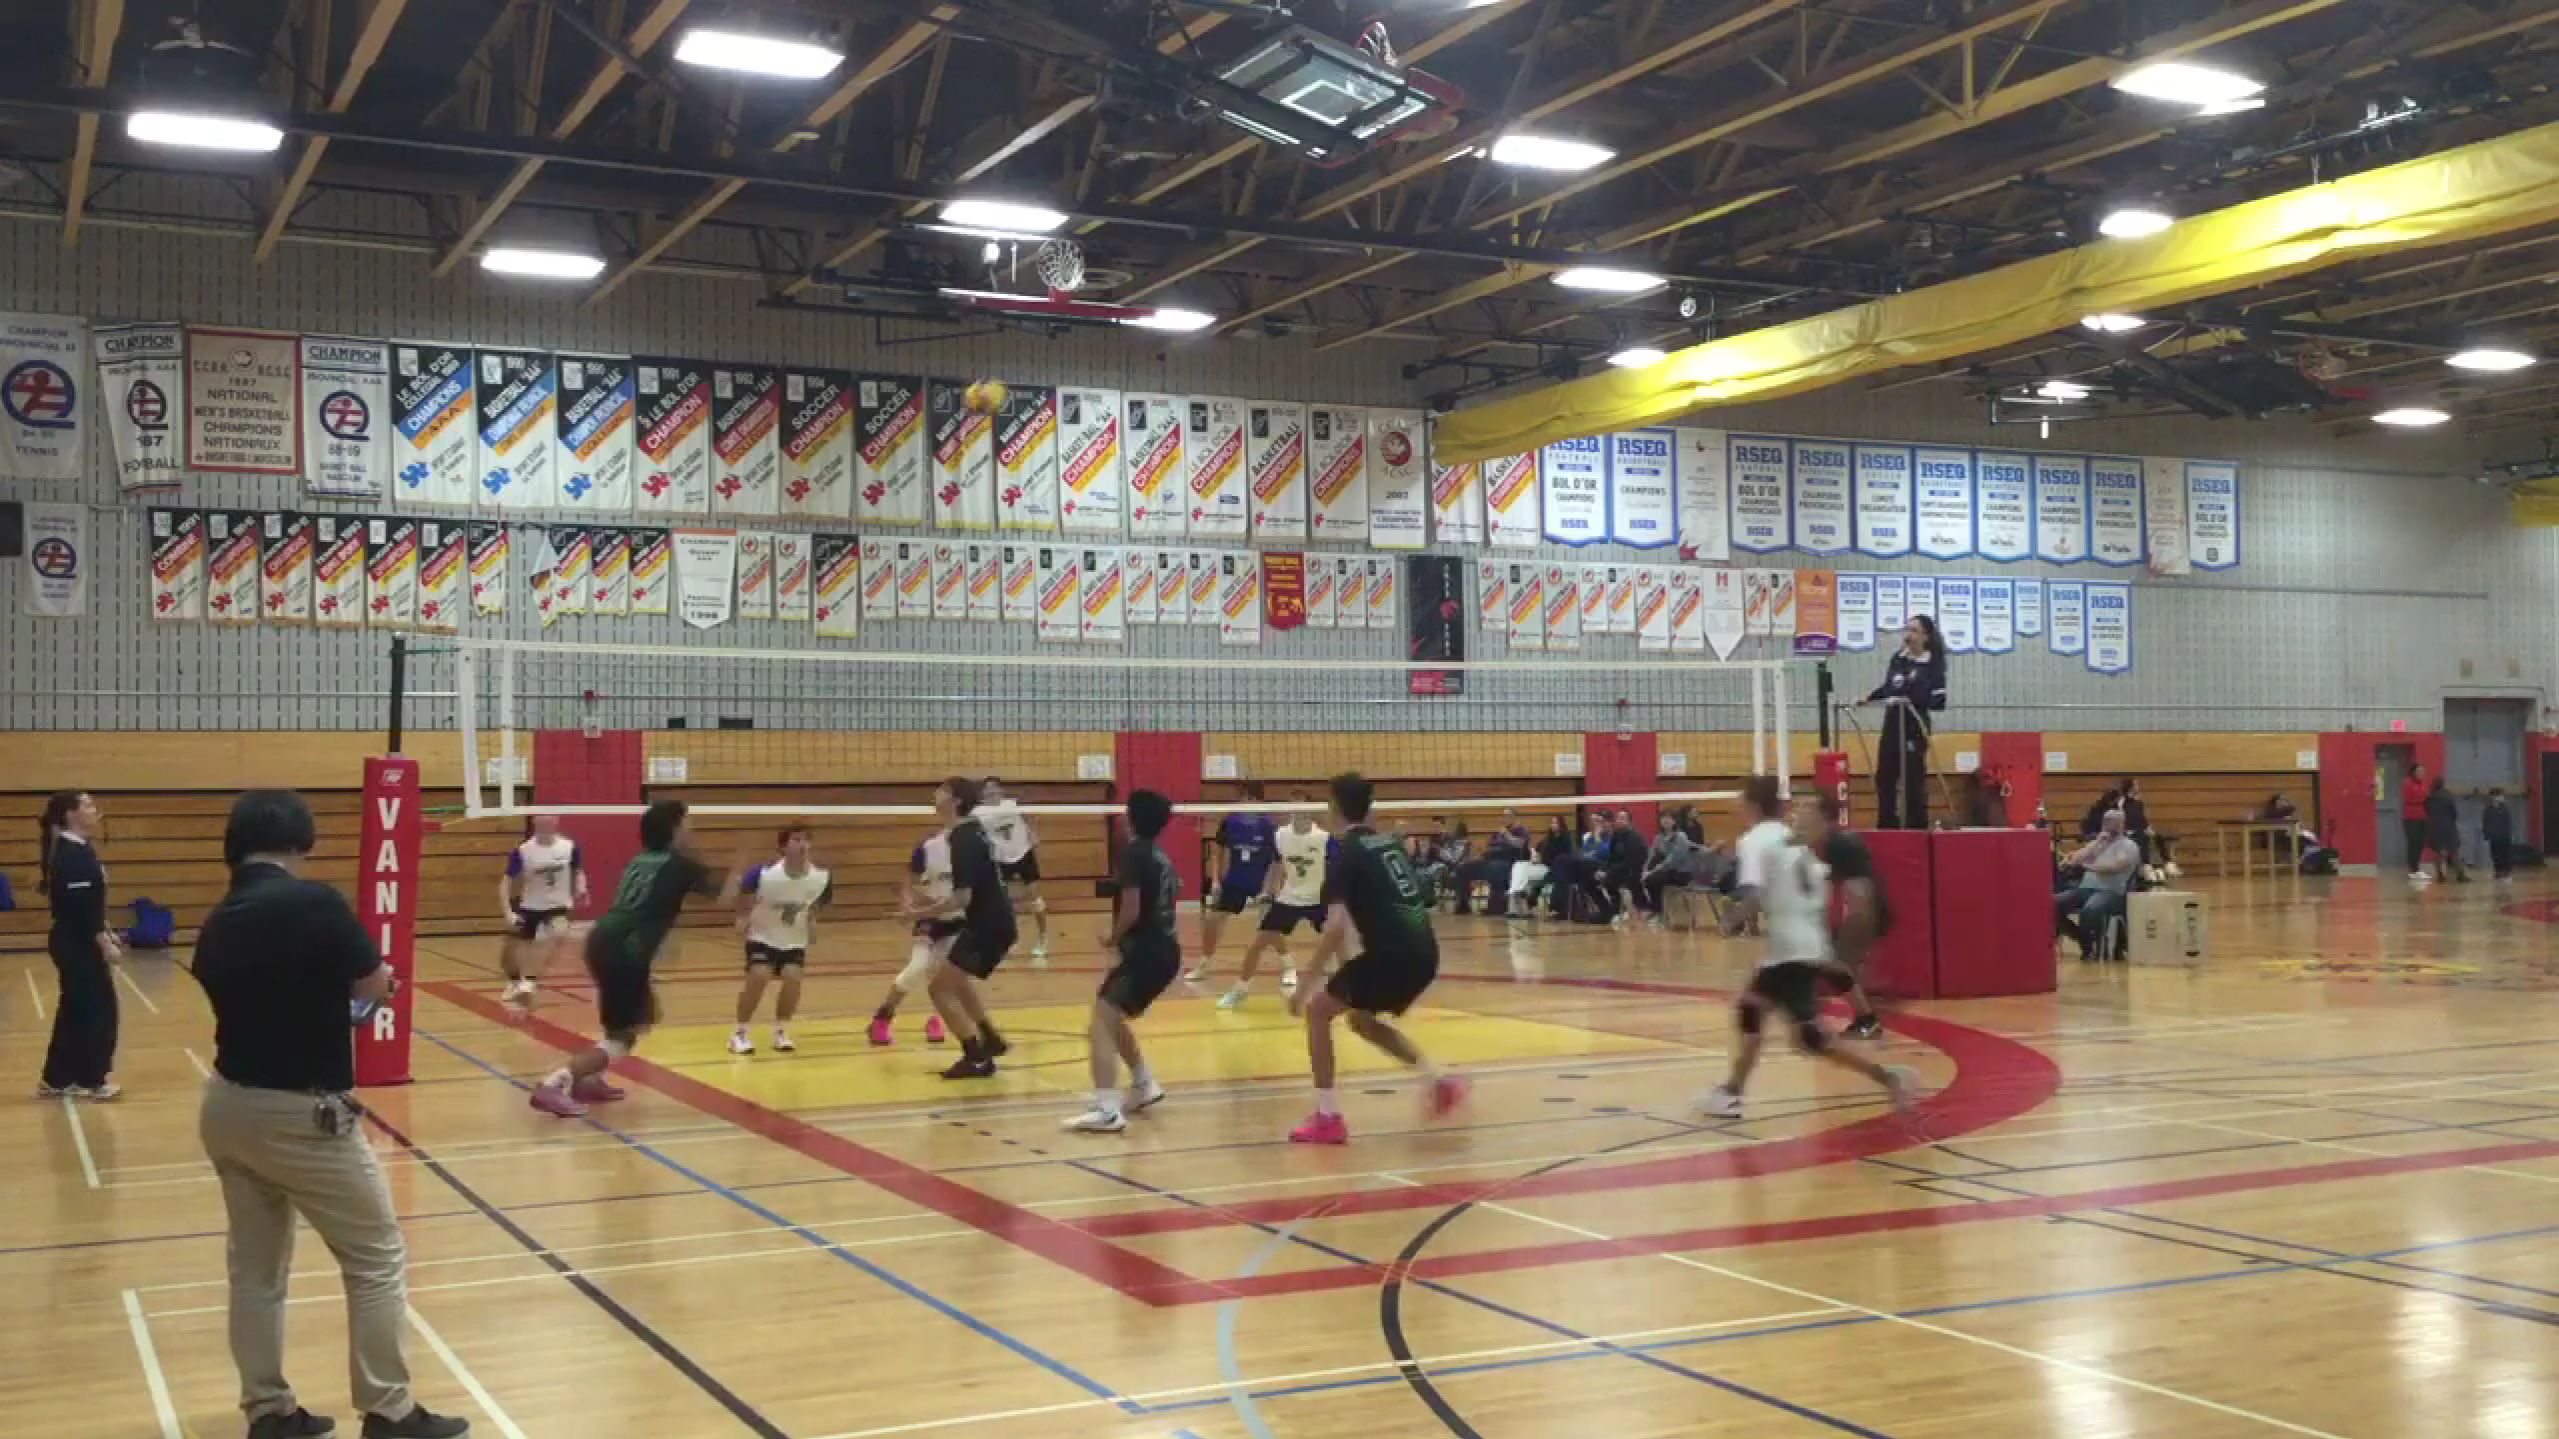Ball: (963, 376, 1009, 418)
